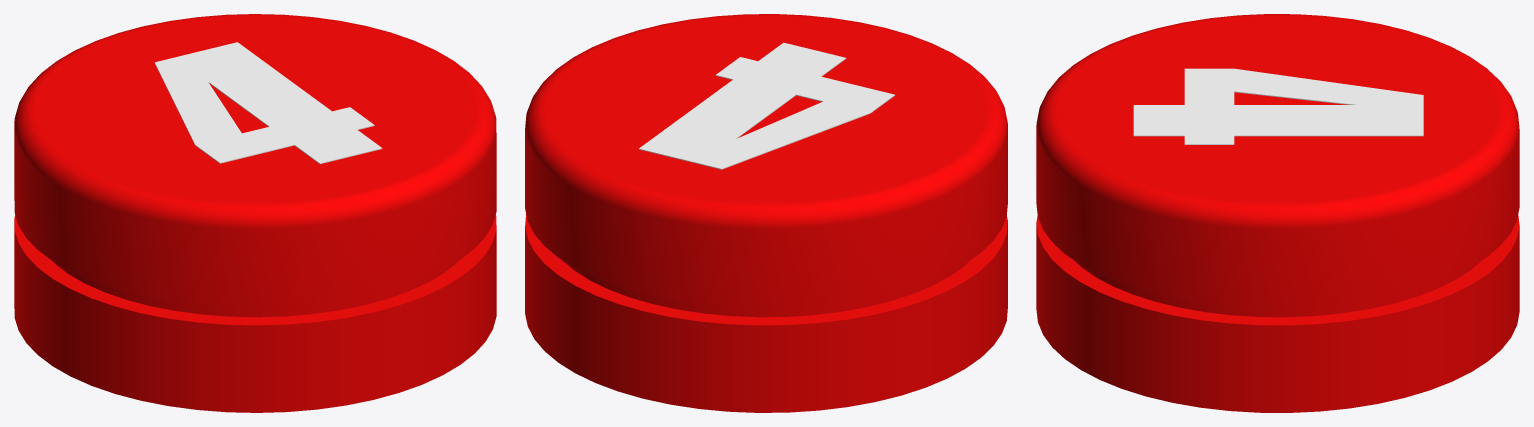
The model's file is nubot_frame4_red.dae.
3 renders of one model, left to right at view 1: azimuth 30°, elevation 25°; view 2: azimuth 150°, elevation 25°; view 3: azimuth 270°, elevation 25°, orthographic.
Visible parts, largest first — view 1: SketchUp (×3), instance_0; view 2: SketchUp (×3), instance_0; view 3: SketchUp (×3), instance_0.
Boxes of the visible parts, bbox=[...] form: SketchUp (×3): bbox=[14, 14, 496, 412]; instance_0: bbox=[154, 42, 382, 163]; SketchUp (×3): bbox=[525, 14, 1007, 412]; instance_0: bbox=[638, 42, 895, 169]; SketchUp (×3): bbox=[1036, 14, 1519, 412]; instance_0: bbox=[1133, 68, 1423, 144].
Bounding box in the file's own units: 19.66 × 19.68 × 9.09.
